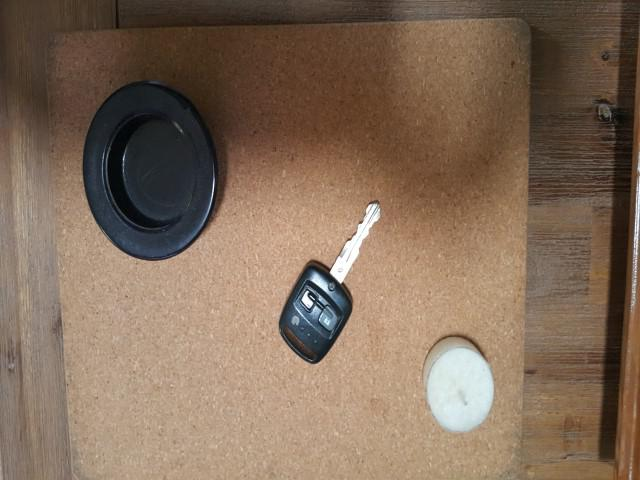key: (278, 200, 388, 388)
